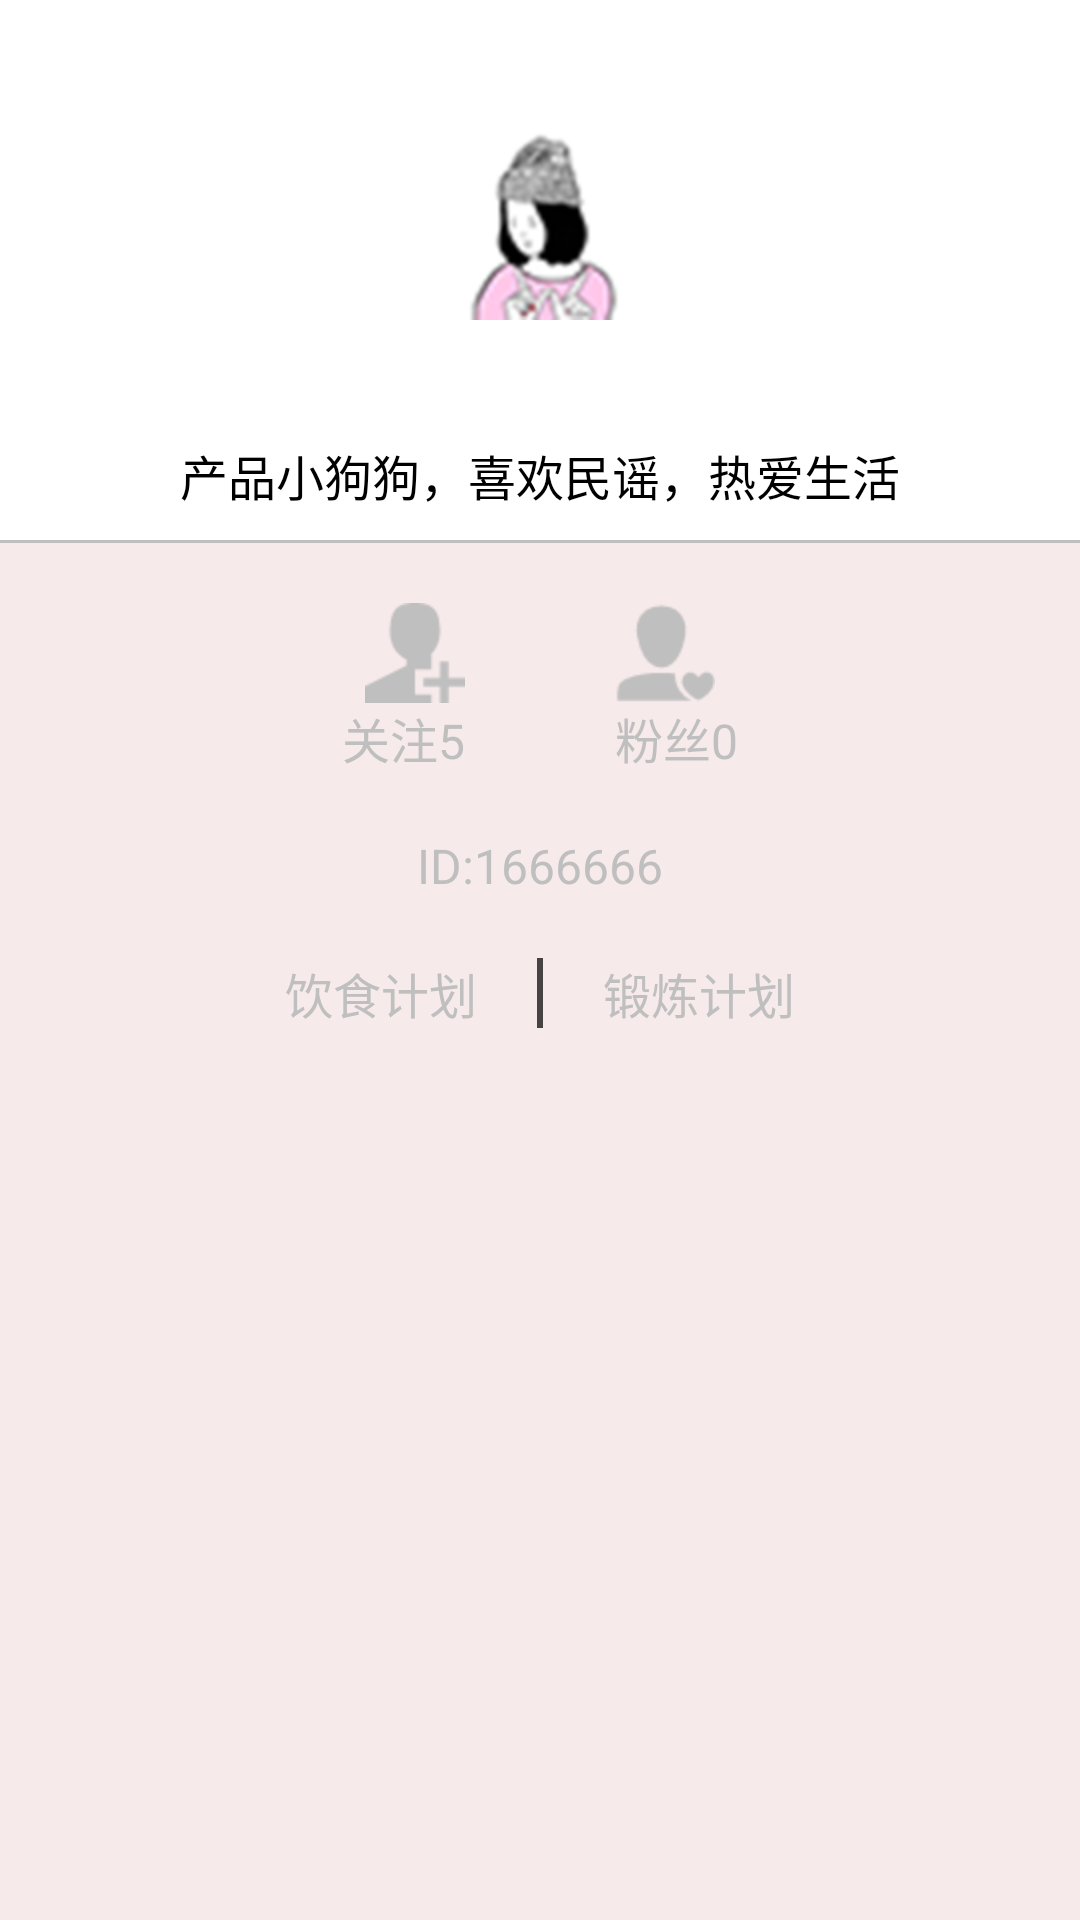

Icon bounding boxes for this 1080*1920 phone screenshot, format (x1, y1, x2, y2):
myicon: (471, 135, 617, 320)
